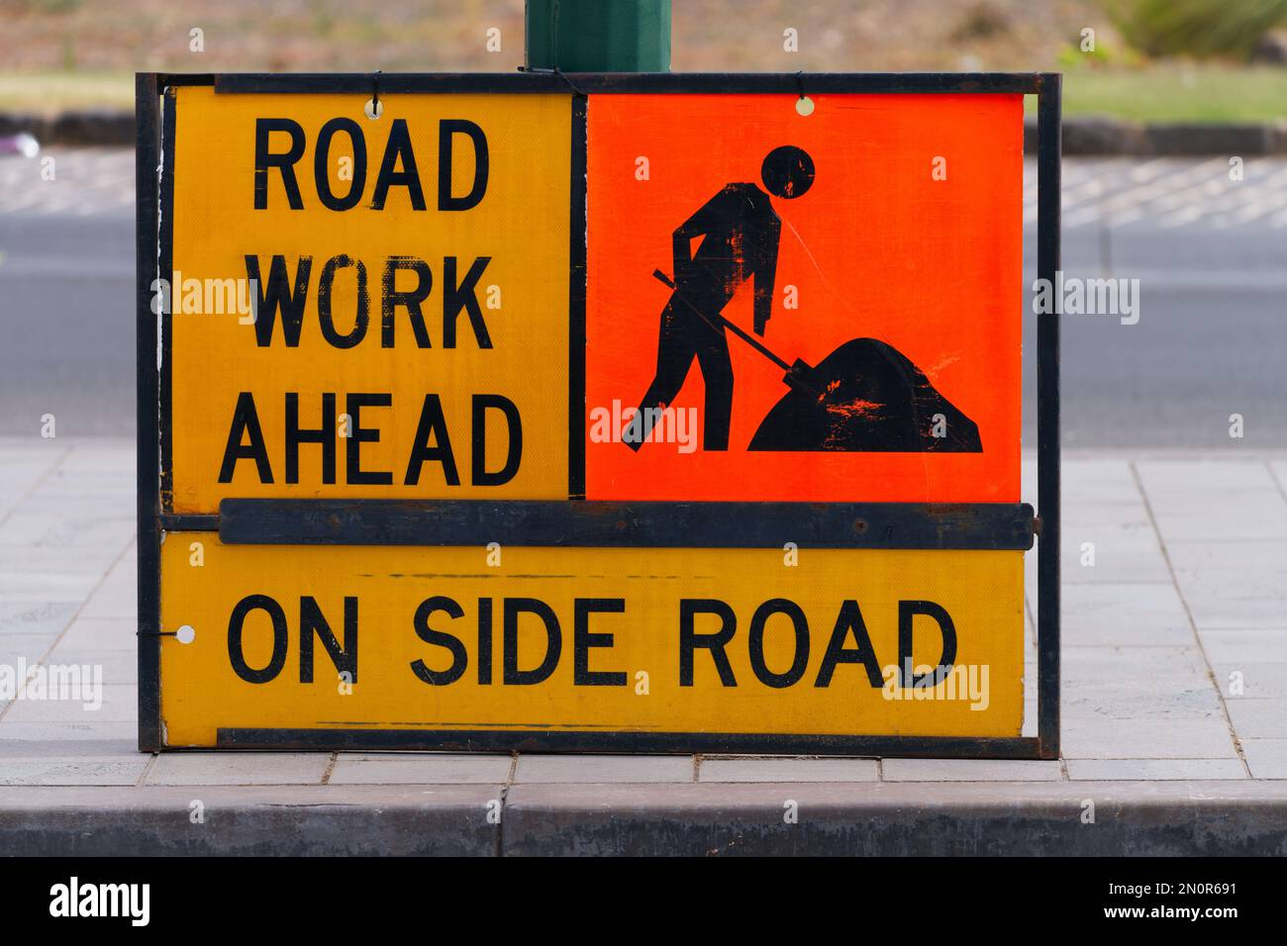Road_workahead: (127, 71, 1063, 749)
